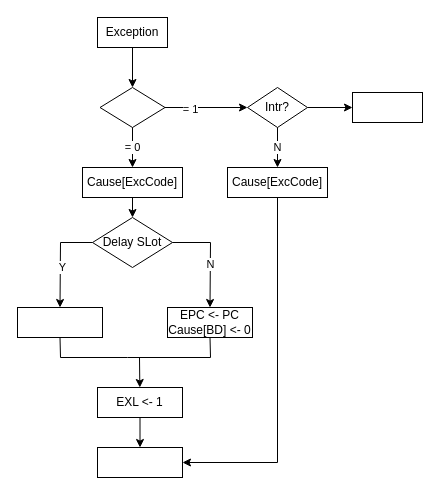
Some shapes in this 440 by 495 pixel diagram are drawn without their labels. Each missing label, with the centre of its shape:
"End" belongs at point 387,107.
"EPC <- PC - 4 Cause[BD] <- 1" belongs at point 59,322.
"EXL" belongs at point 132,107.
"Handler" belongs at point 139,462.
